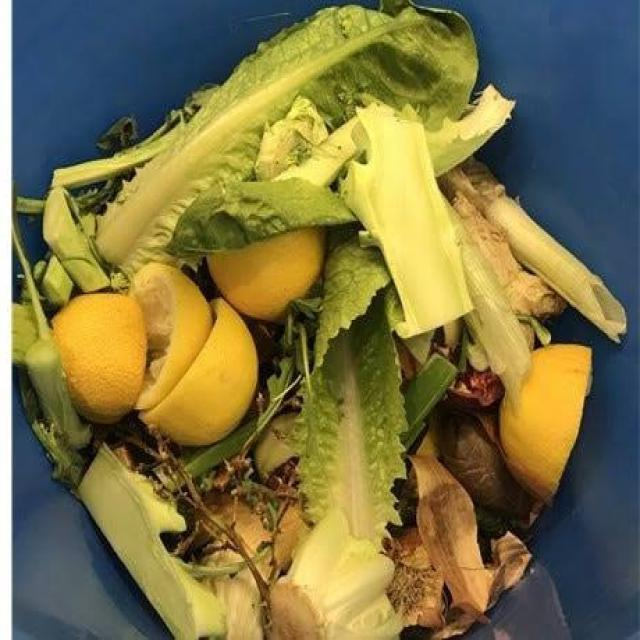organic: (82, 0, 482, 298), (49, 261, 260, 447), (296, 230, 410, 554), (75, 442, 228, 640), (269, 513, 403, 640), (497, 343, 594, 507), (206, 220, 324, 324)
